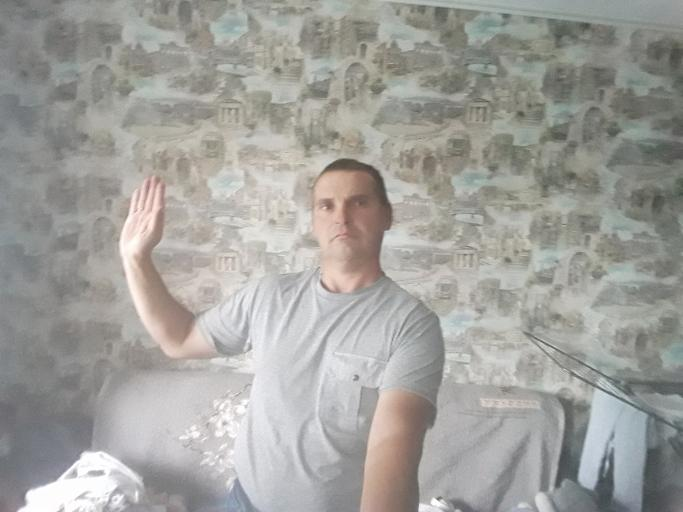stop: (118, 171, 169, 263)
